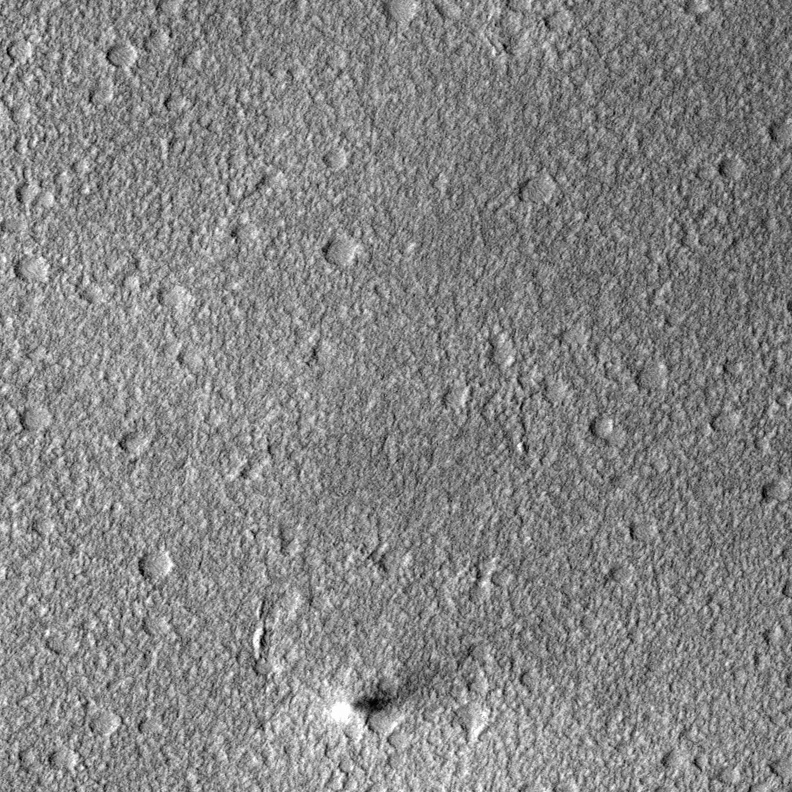dust_devil: (324, 684, 402, 732)
